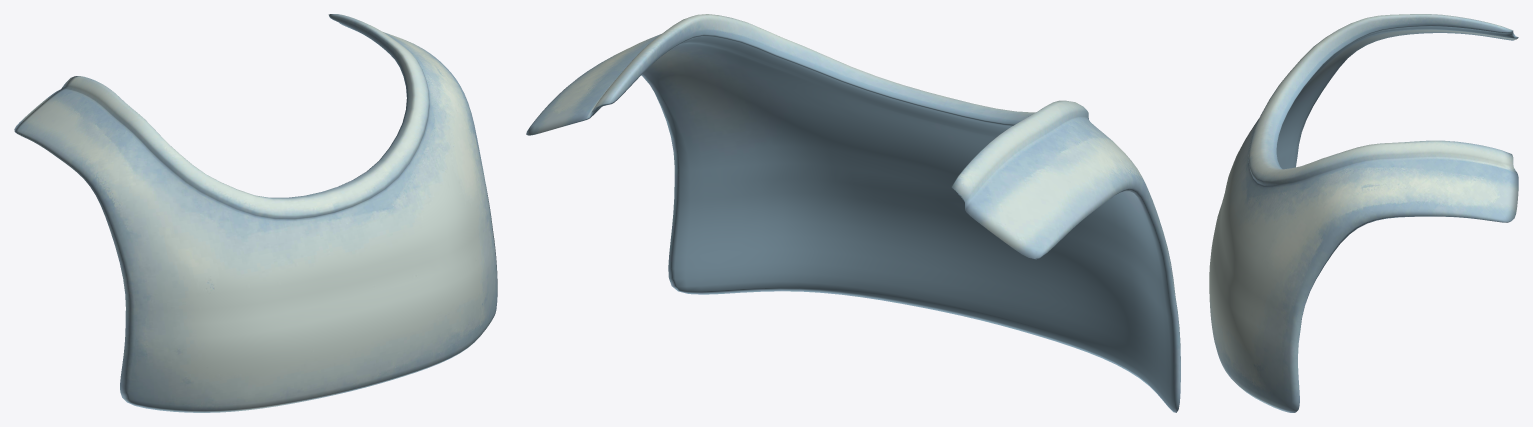
The model's file is clothe1.glb.
3 renders of one model, left to right at view 1: azimuth 30°, elevation 25°; view 2: azimuth 150°, elevation 25°; view 3: azimuth 270°, elevation 25°, orthographic. The views are drawn at different scales.
Visible parts, largest first — view 1: clothes.001; view 2: clothes.001; view 3: clothes.001.
Part boxes in pixels (x1,y1,x2,y2): clothes.001: (14,14,497,412); clothes.001: (526,14,1180,412); clothes.001: (1209,14,1518,412).
Bounding box in the file's own units: 1.03 × 0.6461 × 0.7226.
1 material, 1 textured.
